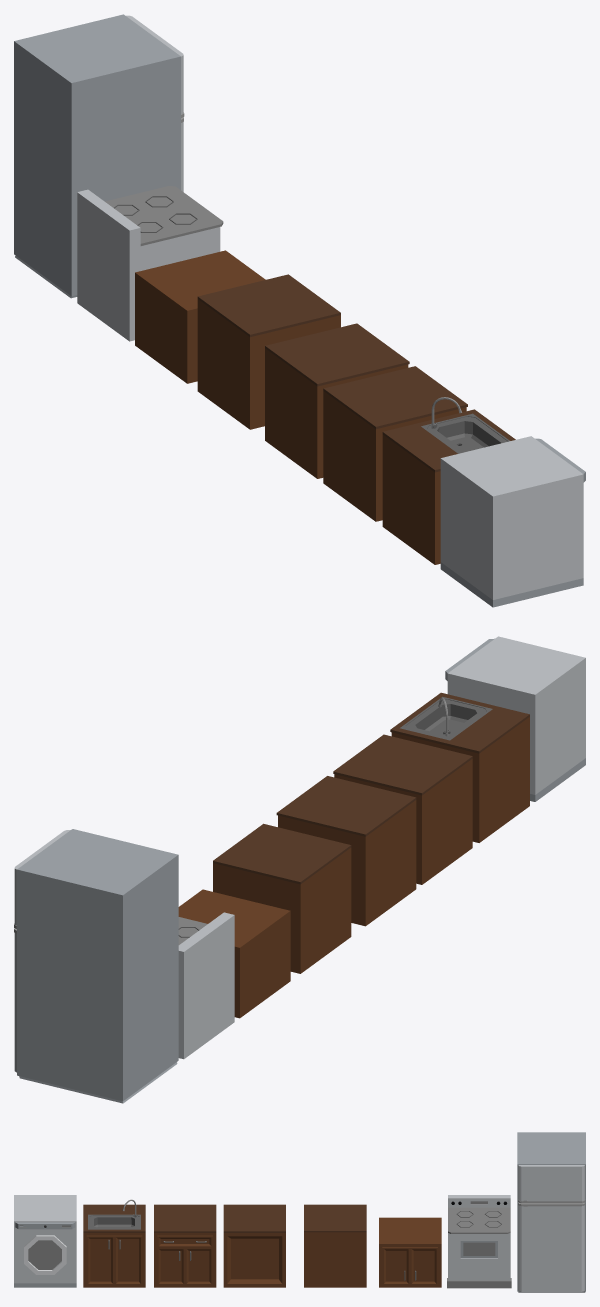
The model's file is Кухня_асет 1.fbx.
The picture shows the model from 3 angles, top to bottom: view 1: azimuth 30°, elevation 25°; view 2: azimuth 150°, elevation 25°; view 3: azimuth 270°, elevation 25°; orthographic projection. The views are drawn at different scales.
Parts seen in each view (by area): view 1: Куб.025, Куб.005, Куб, Куб.016, Куб.017, Куб.011, Куб.009, Куб.019, Куб.010, Куб.018, Куб.012, Куб.003 (+2 smaller); view 2: Куб.025, Куб.005, Куб.017, Куб.016, Куб.009, Куб, Куб.019, Куб.011, Куб.012, Куб.010, Куб.018, Куб.020 (+1 smaller); view 3: Куб.005, Куб.028, Куб.017, Куб.009, Куб, Куб.025, Куб.029, Куб.016, Куб.018, Куб.010, Куб.012, Куб.003 (+14 smaller).
Boxes of the visible parts, <box> form: Куб.025: <box>14,14,180,298</box>; Куб.005: <box>440,436,585,607</box>; Куб: <box>77,189,220,341</box>; Куб.016: <box>135,250,265,383</box>; Куб.017: <box>197,299,340,429</box>; Куб.011: <box>323,391,466,521</box>; Куб.009: <box>265,348,408,478</box>; Куб.019: <box>382,434,440,564</box>; Куб.010: <box>265,323,409,386</box>; Куб.018: <box>197,274,340,337</box>; Куб.012: <box>323,366,467,428</box>; Куб.003: <box>105,186,223,245</box>; Куб.025: <box>17,829,178,1103</box>; Куб.005: <box>445,636,585,801</box>; Куб.017: <box>213,848,351,973</box>; Куб.016: <box>178,889,290,1018</box>; Куб.009: <box>278,800,416,926</box>; Куб: <box>178,912,234,1059</box>; Куб.019: <box>391,717,529,842</box>; Куб.011: <box>334,759,472,884</box>; Куб.012: <box>333,734,472,795</box>; Куб.010: <box>276,776,416,836</box>; Куб.018: <box>213,823,351,884</box>; Куб.020: <box>390,692,529,753</box>; Куб.005: <box>14,1195,76,1287</box>; Куб.028: <box>518,1205,584,1291</box>; Куб.017: <box>304,1232,366,1287</box>; Куб.009: <box>223,1233,285,1287</box>; Куб: <box>448,1195,510,1280</box>; Куб.025: <box>517,1132,585,1292</box>; Куб.029: <box>518,1165,584,1201</box>; Куб.016: <box>379,1217,441,1287</box>; Куб.018: <box>304,1204,366,1232</box>; Куб.010: <box>223,1204,285,1232</box>; Куб.012: <box>154,1204,216,1232</box>; Куб.003: <box>448,1207,510,1233</box>.
Size of the model in its own units: 255 by 455 by 1828.
